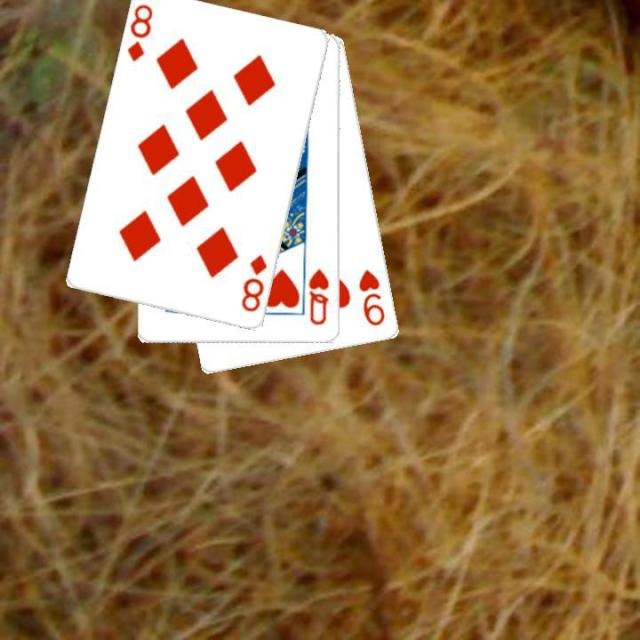8D: (238, 250, 270, 314), (124, 0, 156, 64)
9H: (354, 266, 388, 328)
QH: (305, 266, 331, 328)
